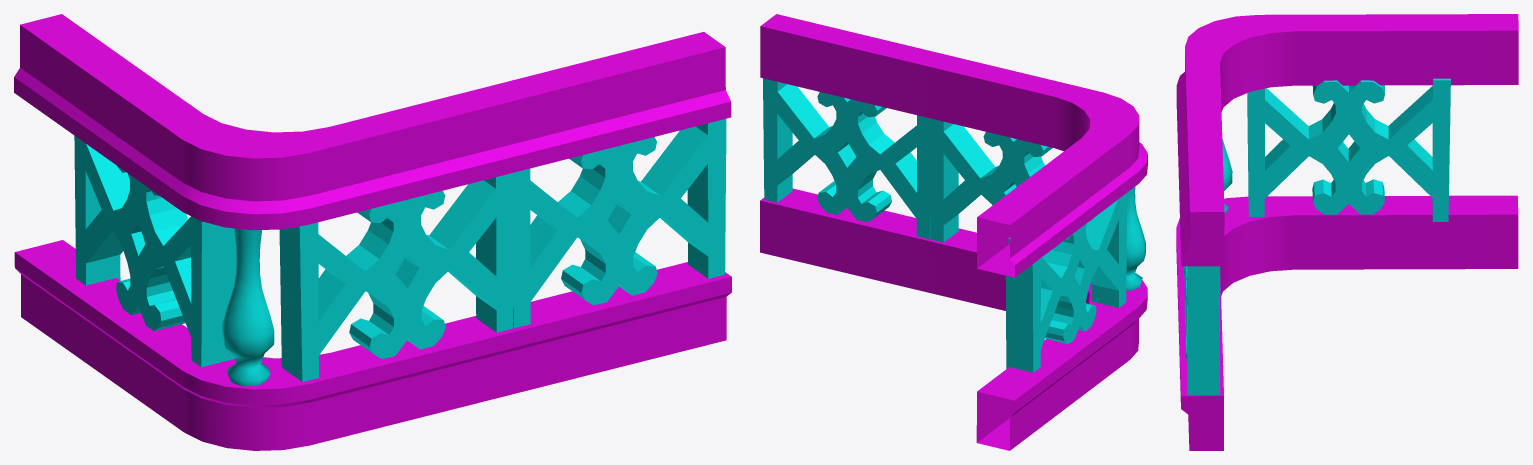
Rendered from balkuni_left_04.fbx.
The picture shows the model from 3 angles, left to right: view 1: azimuth 30°, elevation 25°; view 2: azimuth 150°, elevation 25°; view 3: azimuth 270°, elevation 25°; orthographic projection. The views are drawn at different scales.
Visible parts, largest first — view 1: polySurface232, polySurface233, polySurface228, polySurface229, polySurface231, polySurface230; view 2: polySurface232, polySurface233, polySurface229, polySurface231, polySurface228, polySurface230; view 3: polySurface232, polySurface233, polySurface231, polySurface229, polySurface230.
Part boxes in pixels (x1,y1,x2,y2): polySurface232: (14, 14, 731, 230); polySurface233: (14, 240, 731, 450); polySurface228: (279, 172, 514, 381); polySurface229: (511, 119, 726, 328); polySurface231: (74, 135, 236, 367); polySurface230: (222, 228, 274, 386); polySurface232: (760, 14, 1147, 277); polySurface233: (760, 188, 1147, 450); polySurface229: (763, 78, 931, 239); polySurface231: (1005, 193, 1127, 372); polySurface228: (929, 118, 1052, 242); polySurface230: (1126, 187, 1145, 290); polySurface232: (1176, 14, 1518, 266); polySurface233: (1176, 195, 1518, 450); polySurface231: (1247, 78, 1450, 221); polySurface229: (1184, 266, 1220, 394); polySurface230: (1222, 139, 1232, 214).
Size of the model in its own units: 280 by 154 by 200.
